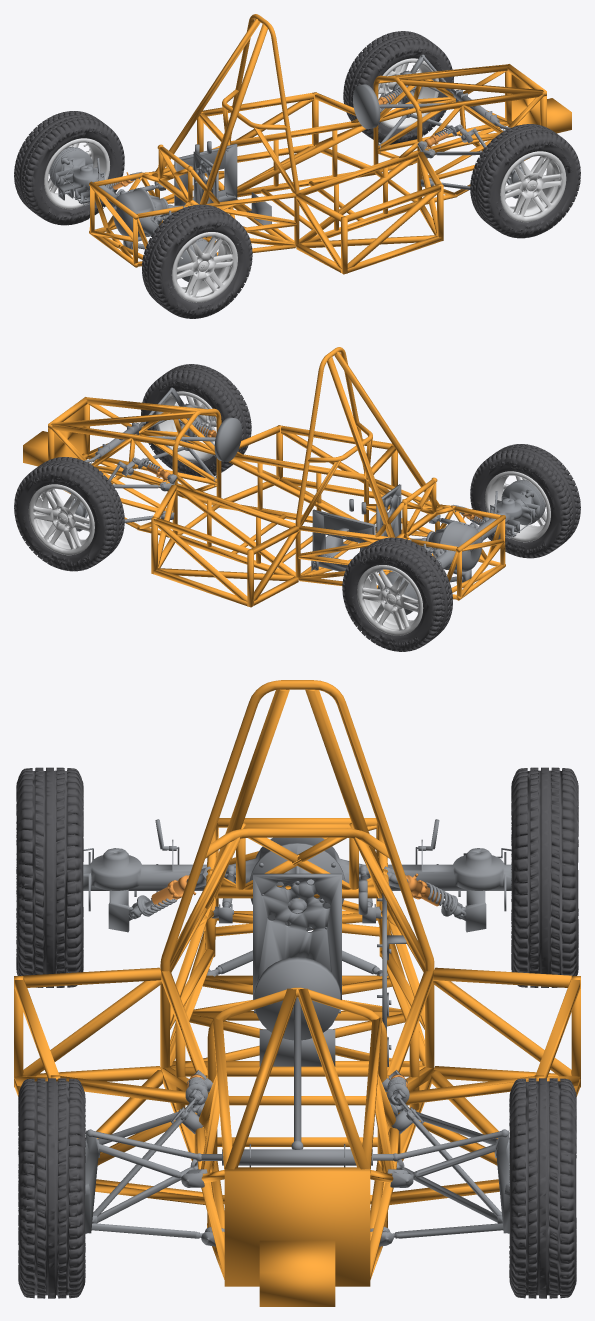
The model's file is frame-v4.glb.
The picture shows the model from 3 angles, top to bottom: view 1: azimuth 30°, elevation 25°; view 2: azimuth 150°, elevation 25°; view 3: azimuth 270°, elevation 25°; orthographic projection. The views are drawn at different scales.
Visible parts, largest first — view 1: frame, tire, susp, wheel, shock; view 2: frame, tire, susp, wheel, shock; view 3: frame, tire, susp, shock.
Boxes of the visible parts, <box> form: frame: <box>89,14,571,274</box>; tire: <box>14,31,580,318</box>; susp: <box>49,54,523,281</box>; wheel: <box>44,58,566,302</box>; shock: <box>112,93,448,189</box>; frame: <box>23,347,505,607</box>; tire: <box>14,364,580,651</box>; susp: <box>71,387,545,614</box>; wheel: <box>28,391,550,635</box>; shock: <box>146,426,482,522</box>; frame: <box>14,680,580,1306</box>; tire: <box>16,767,578,1298</box>; susp: <box>83,819,511,1246</box>; shock: <box>151,873,441,1087</box>.
Bounding box in the file's own units: 2.83 × 1.22 × 1.5.
